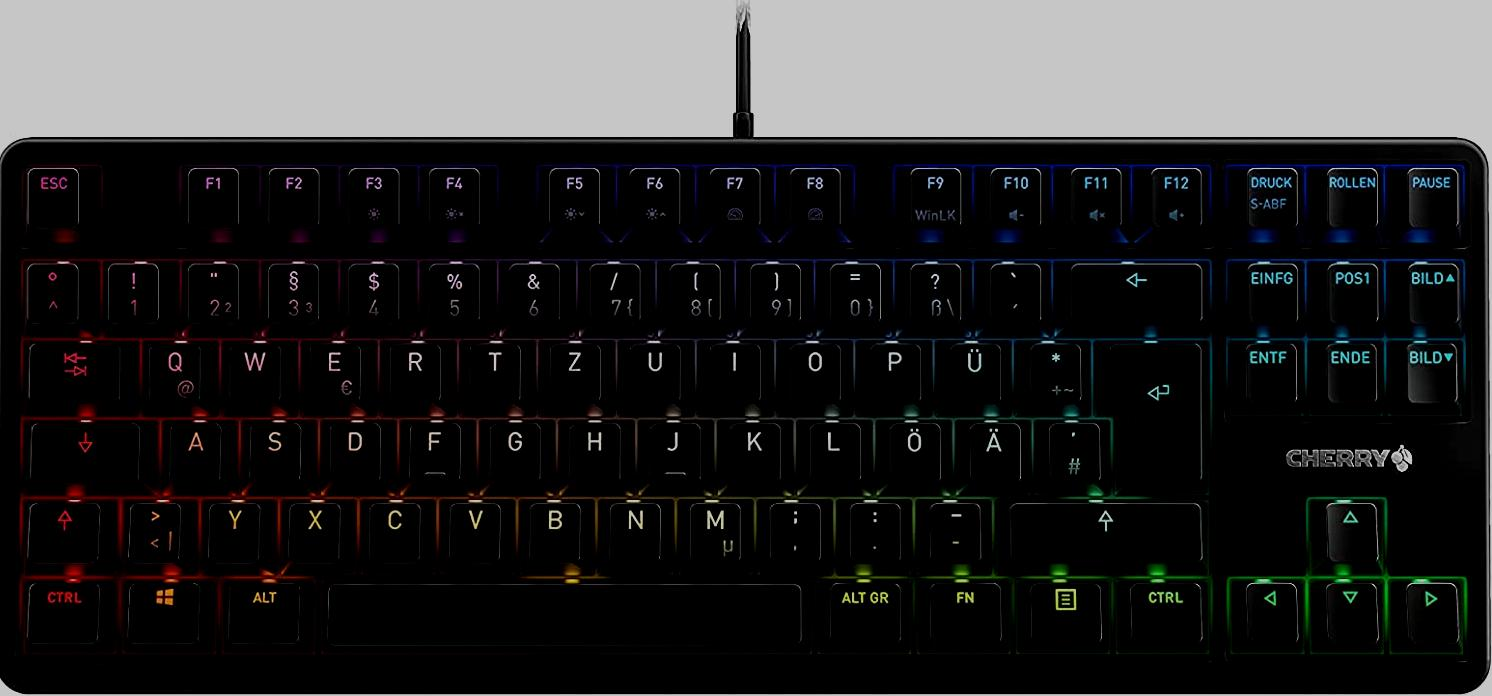0: (826, 257, 882, 327)
1: (104, 258, 160, 325)
2: (184, 257, 242, 325)
3: (263, 257, 322, 327)
4: (345, 257, 401, 325)
5: (425, 257, 483, 326)
6: (505, 257, 562, 326)
7: (584, 257, 643, 326)
8: (665, 257, 724, 327)
9: (745, 257, 803, 326)
a: (164, 417, 221, 483)
accent: (986, 257, 1042, 326)
ae: (964, 417, 1023, 484)
alt-left: (222, 576, 302, 644)
altgr-right: (820, 576, 906, 647)
b: (524, 496, 584, 562)
c: (364, 496, 424, 563)
caret: (23, 258, 79, 325)
comma: (764, 496, 823, 565)
d: (325, 417, 382, 483)
del: (1066, 257, 1206, 324)
e: (305, 337, 362, 405)
enter: (1099, 338, 1206, 488)
f: (406, 417, 461, 481)
g: (485, 416, 542, 482)
h: (565, 417, 622, 483)
hash: (1043, 417, 1102, 485)
i: (705, 337, 761, 403)
j: (644, 416, 701, 483)
k: (724, 416, 782, 483)
keyboard: (1, 135, 1489, 692)
l: (805, 417, 861, 483)
less: (124, 496, 182, 562)
m: (683, 496, 745, 565)
minus: (924, 497, 983, 563)
n: (605, 496, 664, 563)
o: (783, 336, 843, 404)
oe: (884, 417, 942, 484)
p: (864, 337, 922, 404)
plus: (1025, 337, 1083, 405)
point: (846, 497, 903, 562)
q: (143, 337, 202, 405)
r: (385, 337, 442, 404)
s: (244, 416, 302, 483)
shift-left: (23, 497, 101, 562)
shift-lock: (28, 417, 141, 483)
shift-right: (1005, 498, 1205, 564)
space: (320, 576, 806, 648)
ss: (905, 259, 963, 326)
strg-left: (22, 576, 103, 645)
strg-right: (1120, 576, 1208, 647)
t: (466, 336, 521, 403)
tab: (24, 338, 123, 403)
u: (626, 337, 682, 404)
ue: (942, 337, 1003, 405)
v: (445, 497, 503, 563)
w: (224, 337, 282, 403)
x: (285, 497, 343, 563)
y: (204, 498, 262, 563)
z: (544, 337, 601, 404)
